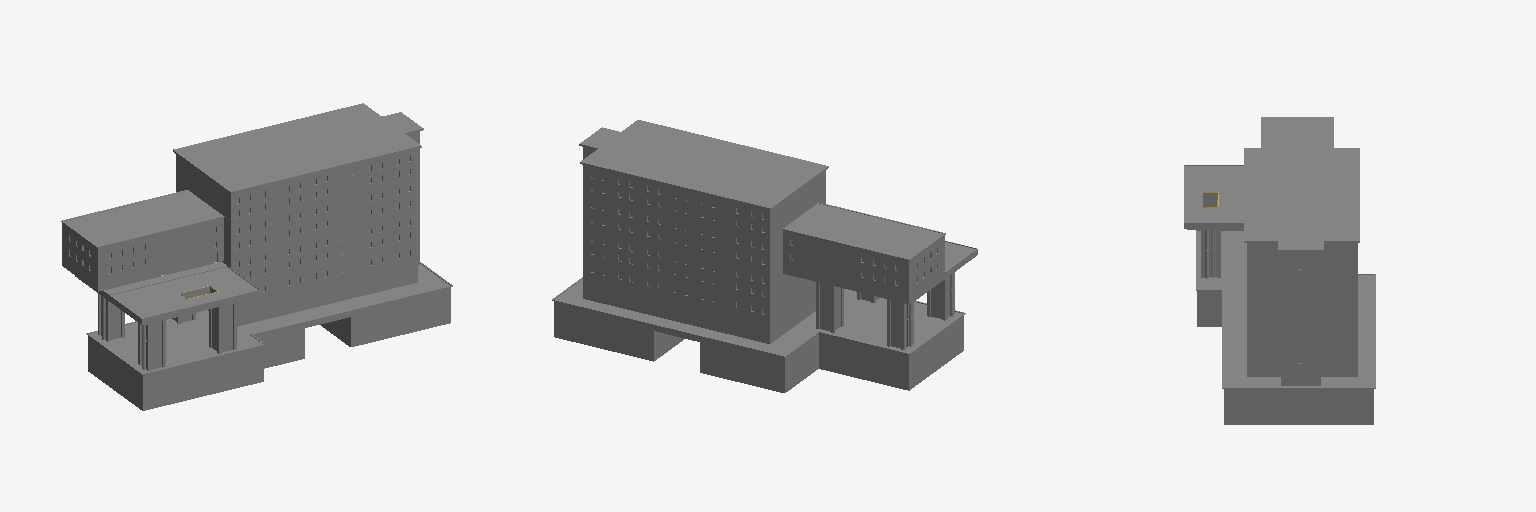
3 views of the same model, side by side, from view 1: azimuth 30°, elevation 25°; view 2: azimuth 150°, elevation 25°; view 3: azimuth 270°, elevation 25° (orthographic).
Visible parts, largest first — view 1: building_4_lod1.obj; view 2: building_4_lod1.obj; view 3: building_4_lod1.obj.
Part boxes in pixels (x1,y1,x2,y2): building_4_lod1.obj: (61, 103, 452, 410); building_4_lod1.obj: (552, 120, 977, 392); building_4_lod1.obj: (1184, 117, 1375, 424).
Bounding box in the file's own units: 113 × 55.92 × 55.63.
5 materials, 5 textured.